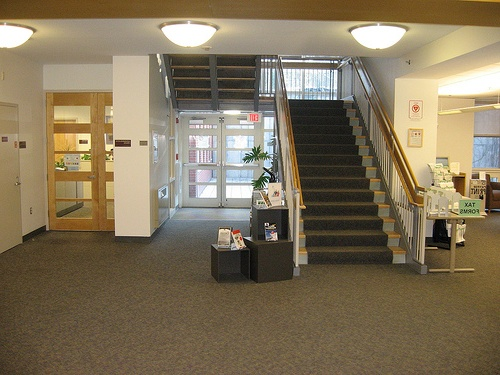stairs_up: (285, 97, 411, 273)
